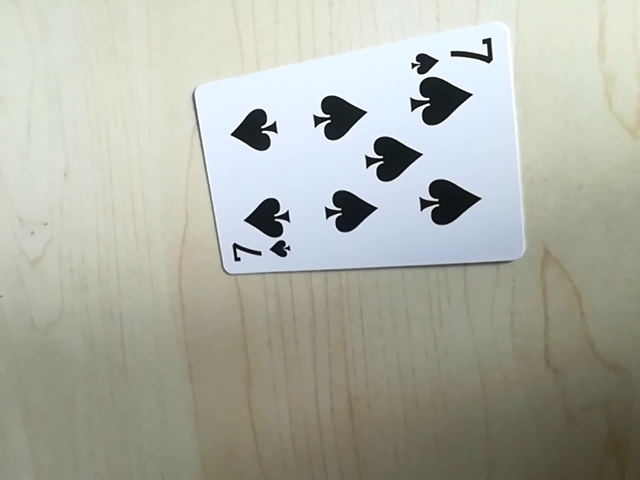ht 7: (406, 34, 503, 74), (222, 237, 293, 270)
